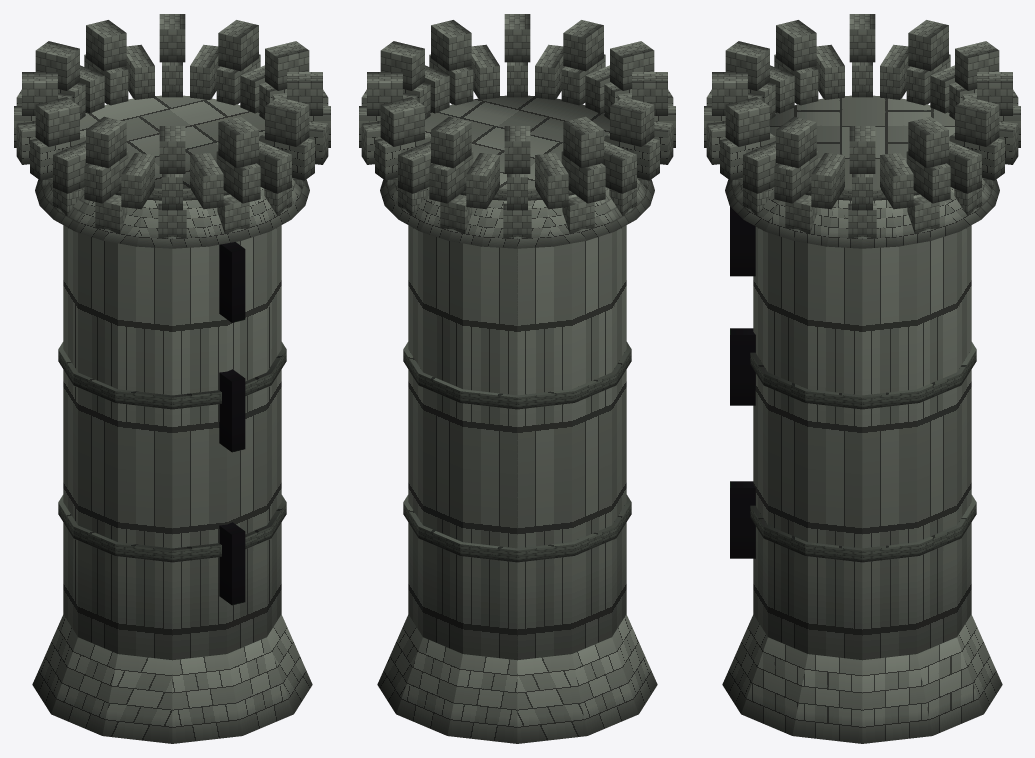
The model's file is tower_round_tall_dark.gltf.
The picture shows the model from 3 angles, left to right: view 1: azimuth 30°, elevation 25°; view 2: azimuth 150°, elevation 25°; view 3: azimuth 270°, elevation 25°; orthographic projection.
Visible parts, largest first — view 1: tower_round_tall_dark; view 2: tower_round_tall_dark; view 3: tower_round_tall_dark.
Boxes of the visible parts, bbox=[...] form: tower_round_tall_dark: bbox=[14, 14, 330, 743]; tower_round_tall_dark: bbox=[359, 14, 675, 743]; tower_round_tall_dark: bbox=[704, 14, 1020, 743].
Bounding box in the file's own units: 1.22 × 2.58 × 1.22.
1 material, 1 textured.
